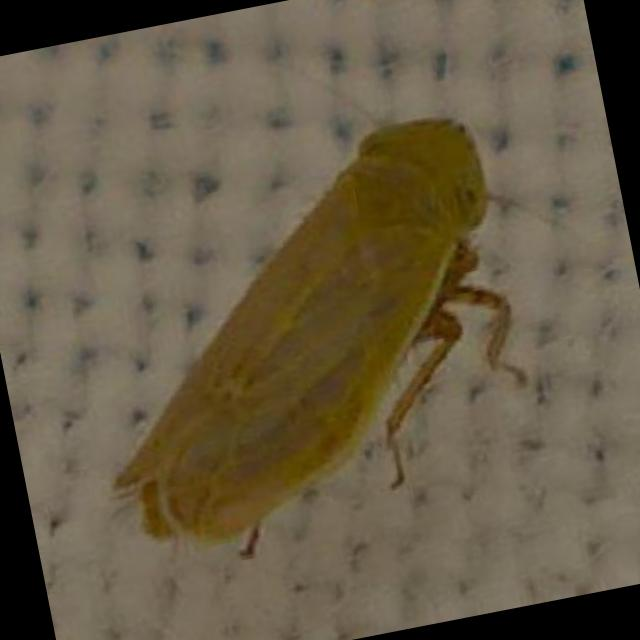green-leafhopper: (62, 109, 544, 563)
